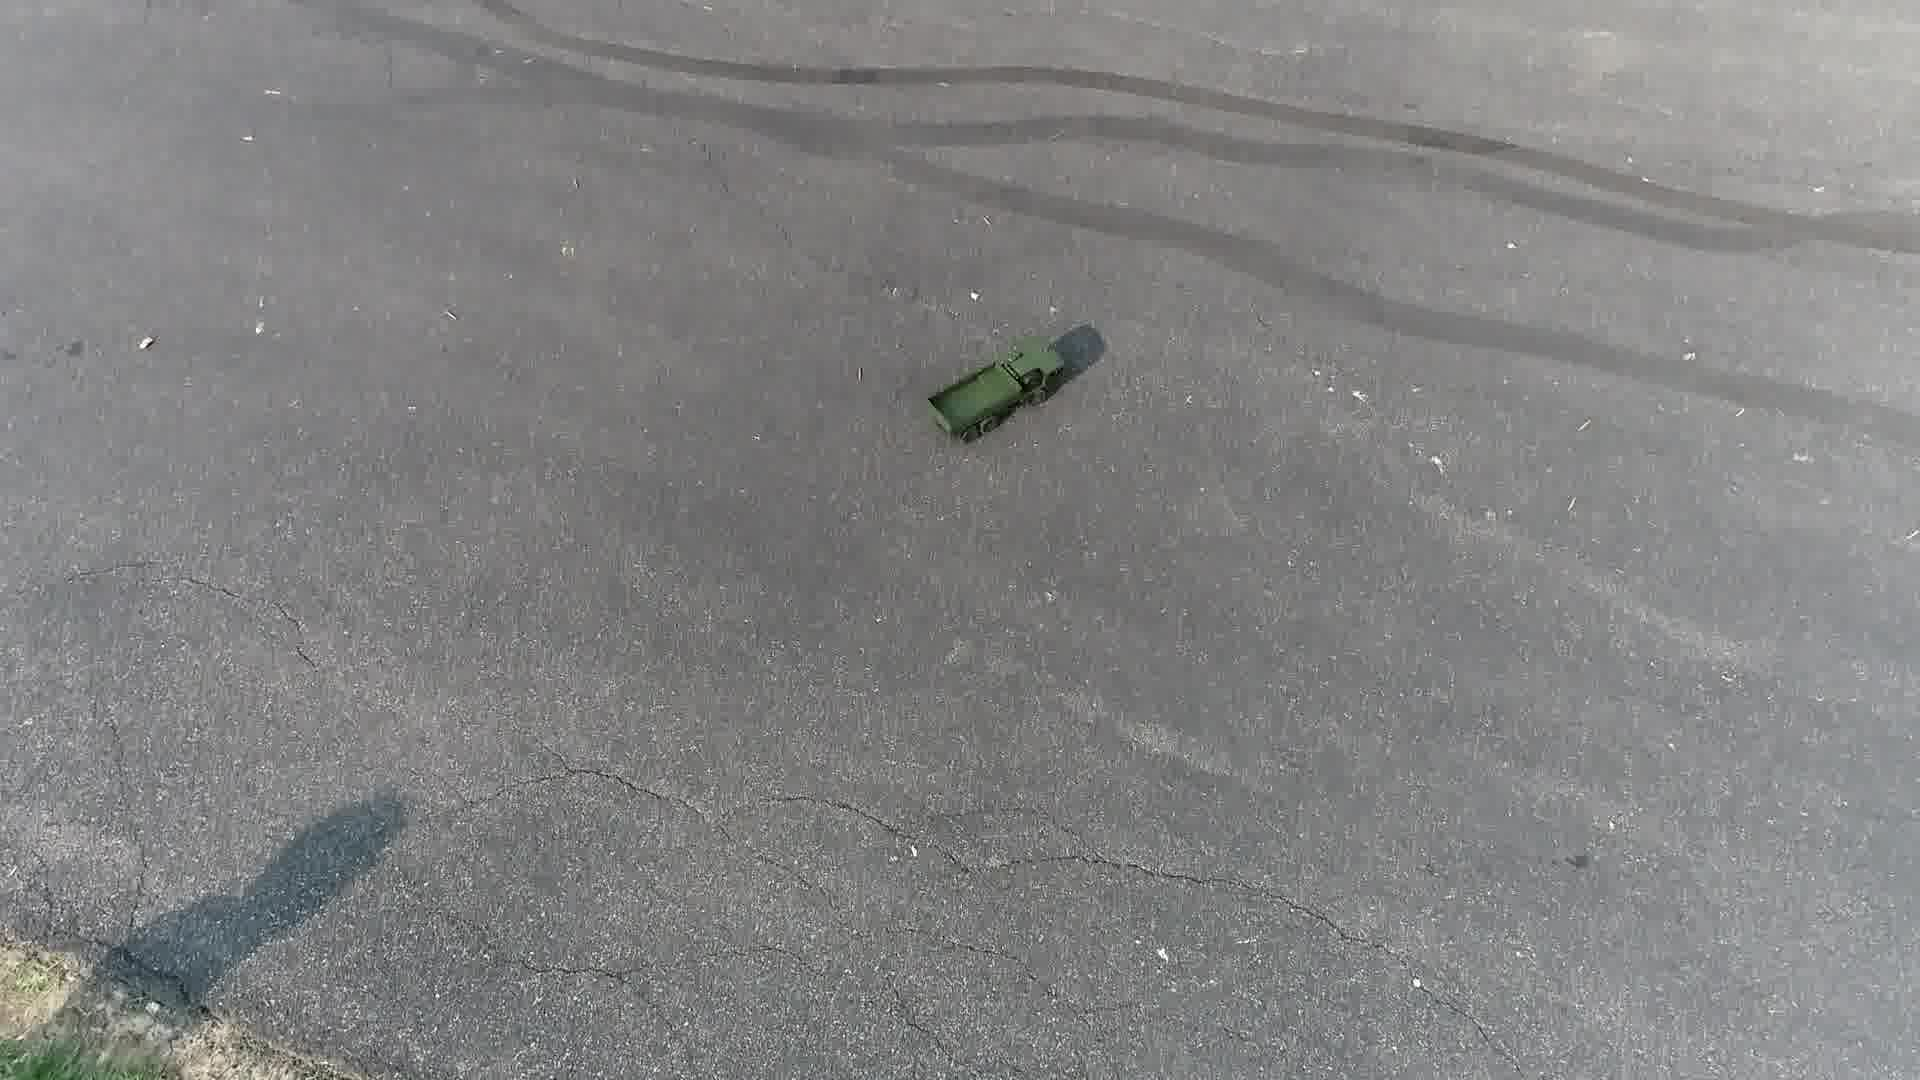transporter9: (913, 328, 1079, 444)
